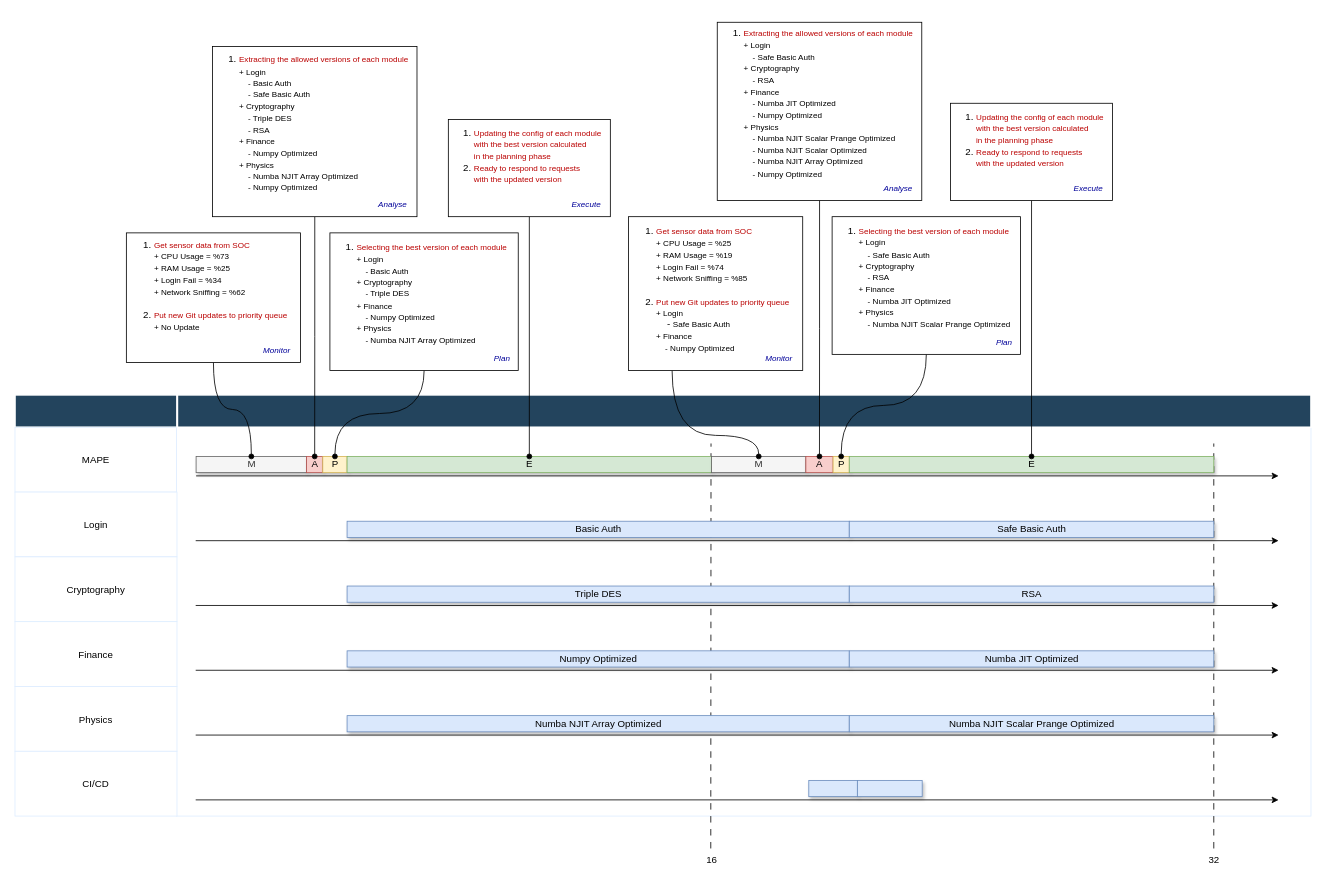
The diagram is 1325 pixels wide and 886 high, and some of its shapes have lost their labels. Here are the shapes that lost their labels. From the top down, the centre of each, then its label:
point (95, 411): Pipeline
point (743, 411): Schedule Chart
point (833, 789): L (SBA)
point (890, 789): F (NO)
